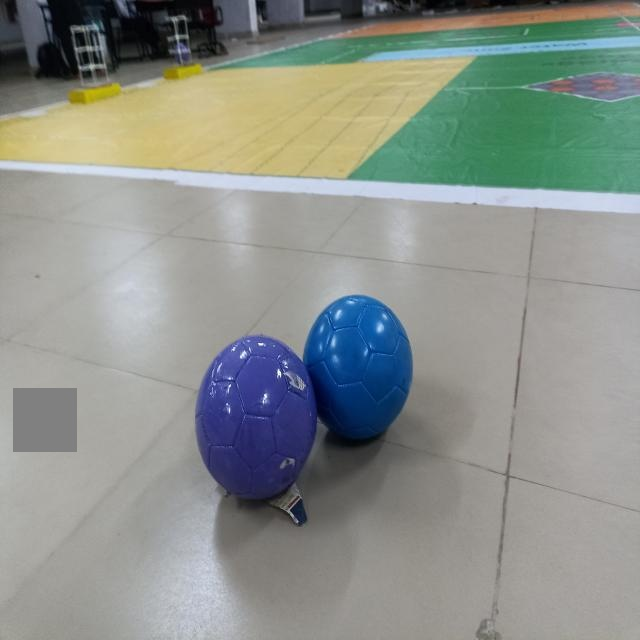blue_ball: (304, 297, 413, 442)
purple_ball: (195, 336, 317, 510)
